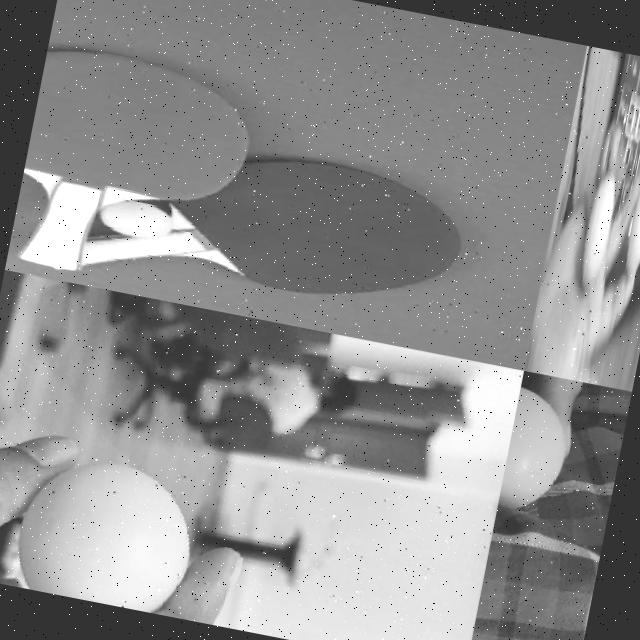ping-pong-ball: (12, 448, 206, 618), (498, 388, 576, 516), (576, 172, 619, 288), (95, 198, 174, 242), (620, 177, 640, 277)
